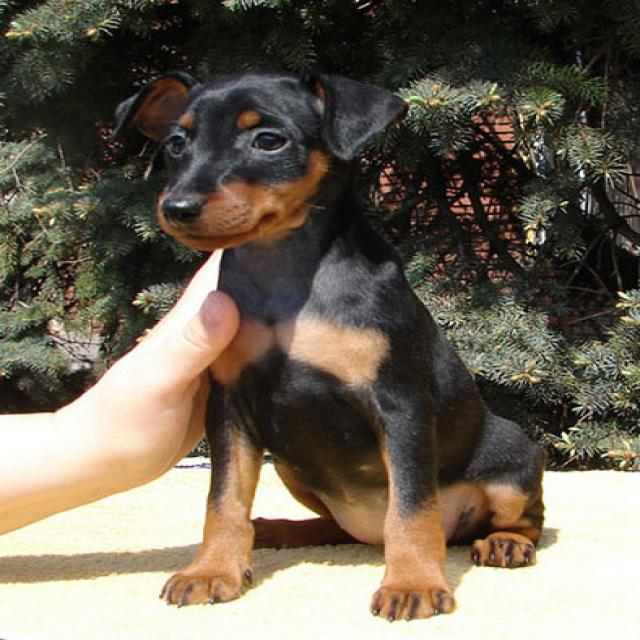dog-miniature_pinscher: (96, 64, 556, 631)
